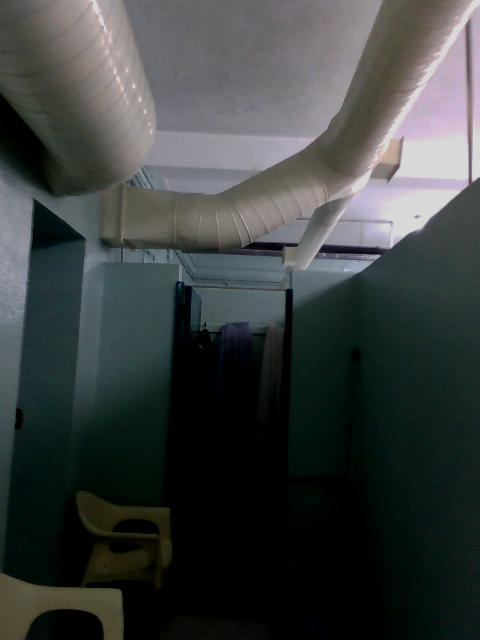open_door: (168, 262, 293, 639)
